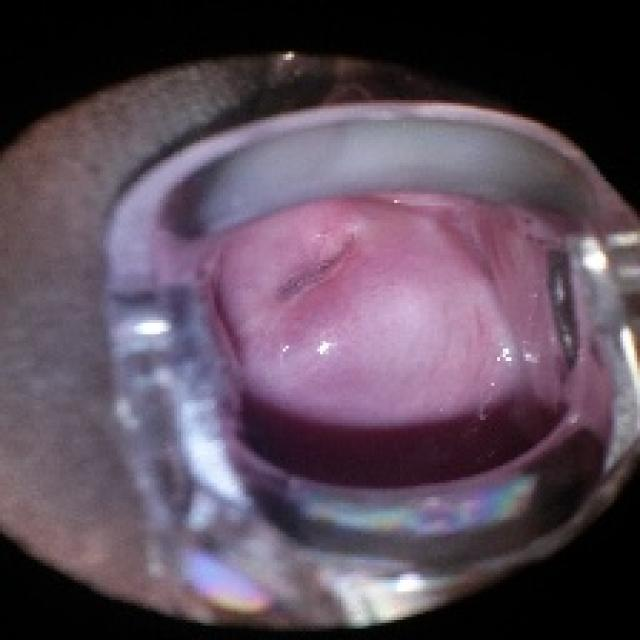type-3: (18, 100, 630, 565)
